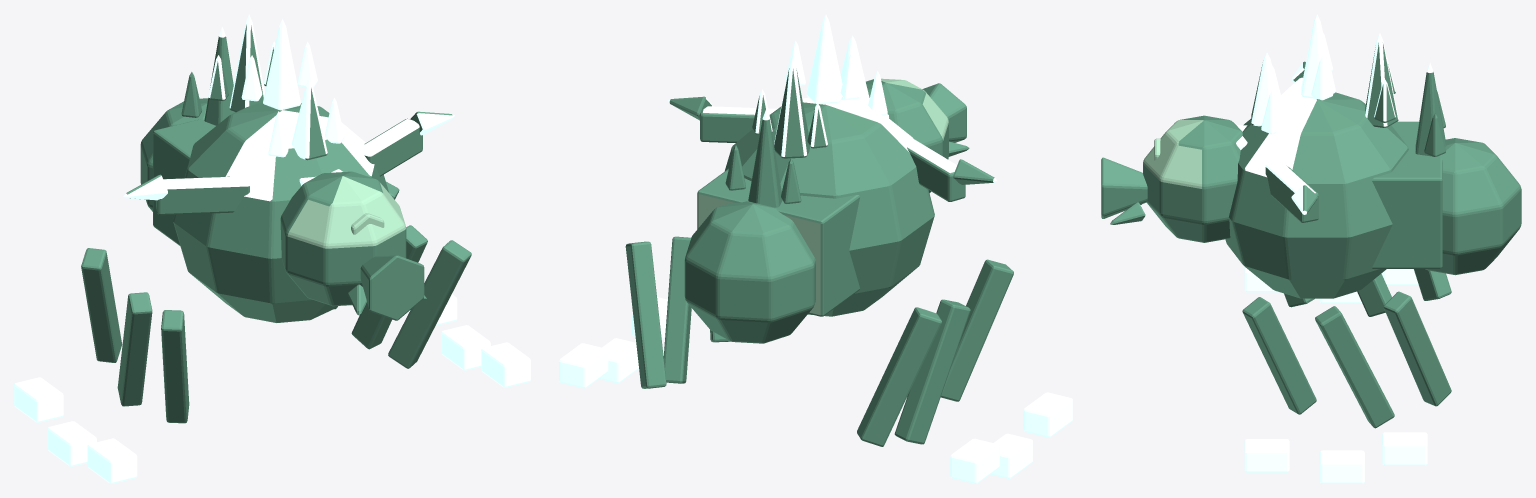
The model's file is Monster_Swarm.fbx.
The picture shows the model from 3 angles, left to right: view 1: azimuth 30°, elevation 25°; view 2: azimuth 150°, elevation 25°; view 3: azimuth 270°, elevation 25°; orthographic projection. The views are drawn at different scales.
Parts seen in each view (by area): view 1: Monster_Swarm; view 2: Monster_Swarm; view 3: Monster_Swarm.
Part boxes in pixels (<box>): Monster_Swarm: <box>14,14,530,483</box>; Monster_Swarm: <box>559,14,1072,483</box>; Monster_Swarm: <box>1101,14,1521,483</box>.
Size of the model in its own units: 1.82 by 1.65 by 1.67.
